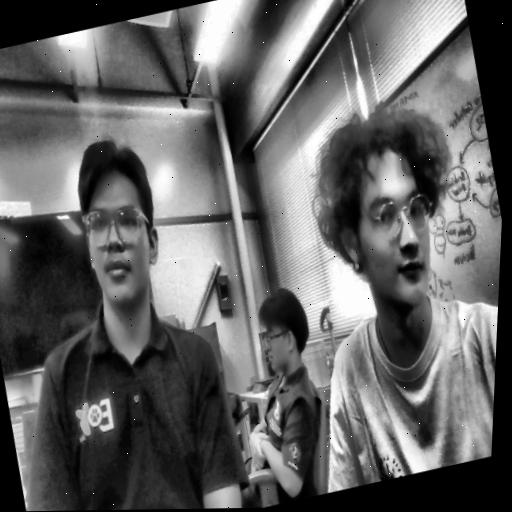Daifuku: (291, 91, 478, 327)
Not Daifuku: (58, 130, 176, 309)
